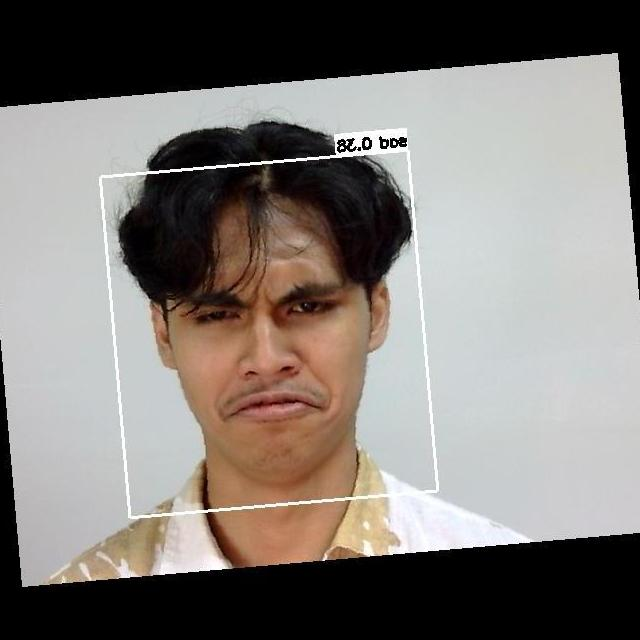Sad: (170, 263, 377, 459)
